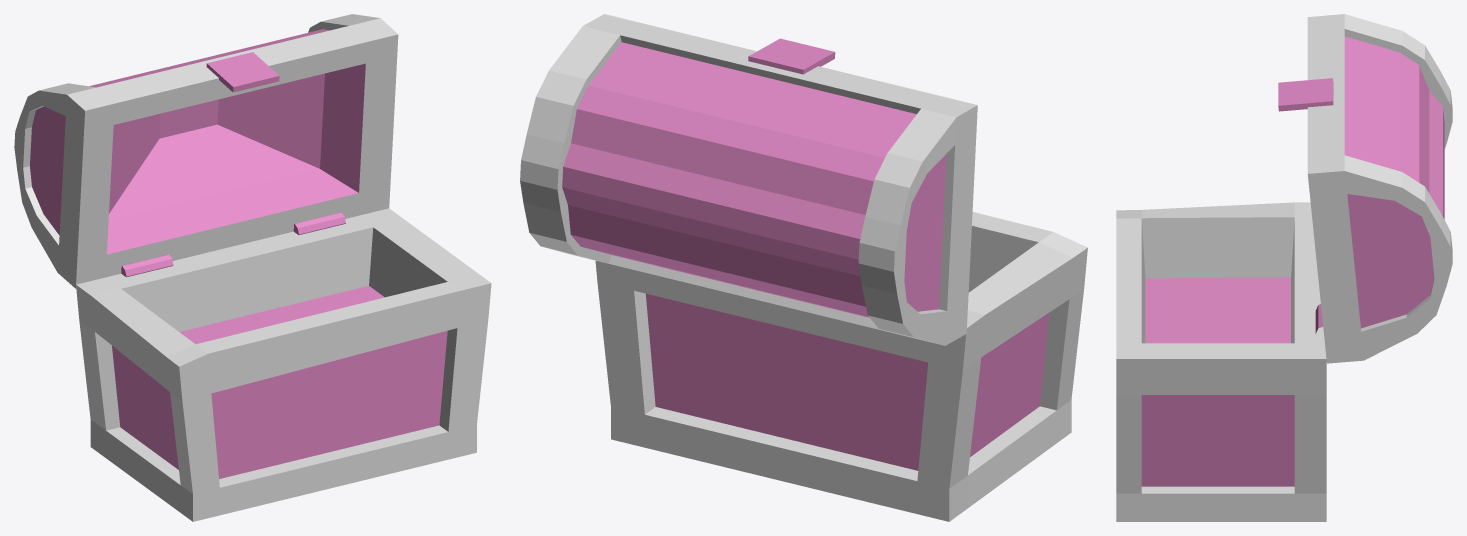
The model's file is chest.fbx.
3 renders of one model, left to right at view 1: azimuth 30°, elevation 25°; view 2: azimuth 150°, elevation 25°; view 3: azimuth 270°, elevation 25°, orthographic. The views are drawn at different scales.
Visible parts, largest first — view 1: Cube, Cube.001; view 2: Cube.001, Cube; view 3: Cube, Cube.001.
Part boxes in pixels (box(x1,y1,x2,y2)): Cube: box(76, 208, 491, 521); Cube.001: box(14, 14, 398, 288); Cube.001: box(520, 14, 977, 345); Cube: box(595, 212, 1087, 521); Cube: box(1116, 202, 1326, 521); Cube.001: box(1278, 14, 1452, 363).
Size of the model in its own units: 200 by 215 by 181.
